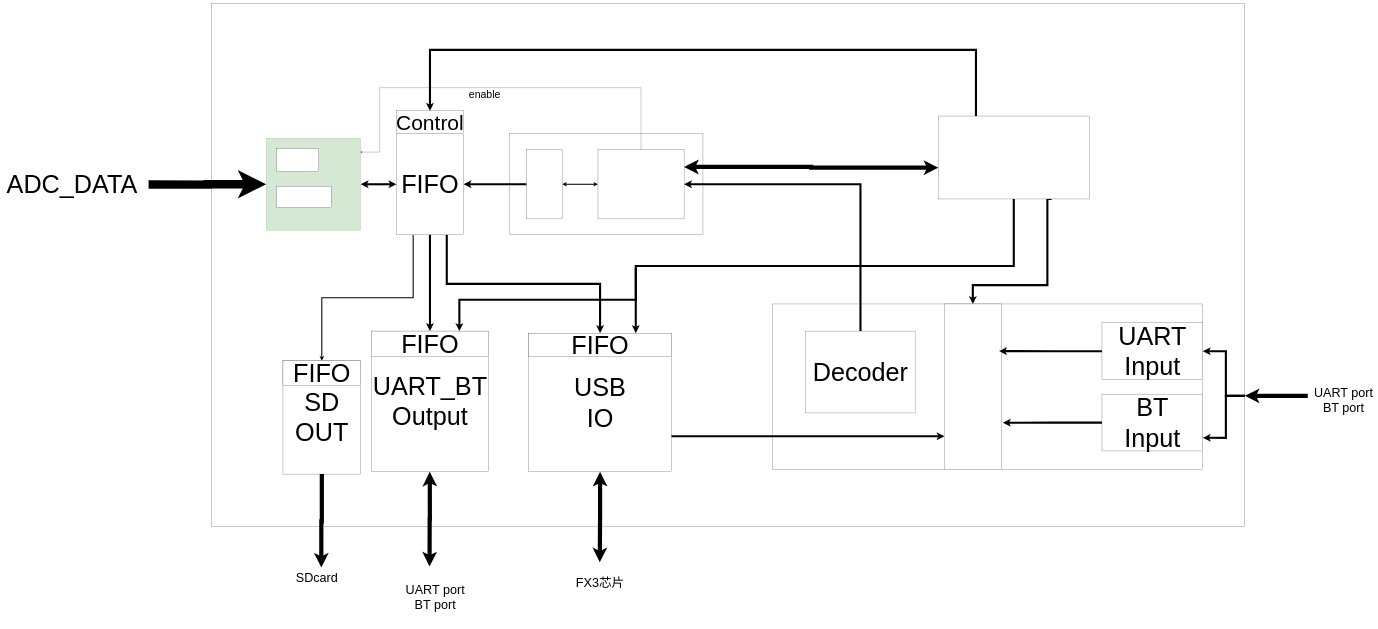
Image size: 1378x629. Some labels were removed from this diagram. The centre of each missing label's shape, as x and y in pixels:
EXECUTE: the point at 641,184
F I F O: the point at 972,387
R E P L Y: the point at 544,184
STATE: the point at 1013,157
包控制: the point at 297,160
时间控制: the point at 303,196
